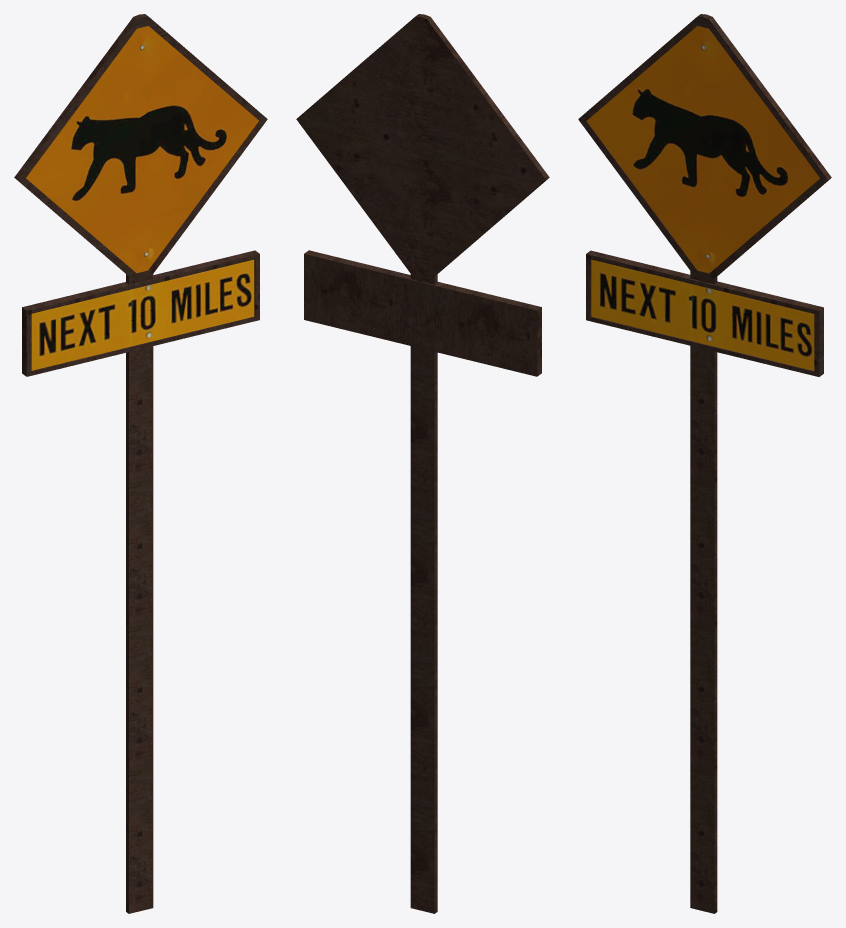
The model's file is fbxSignal.fbx.
The picture shows the model from 3 angles, left to right: view 1: azimuth 30°, elevation 25°; view 2: azimuth 150°, elevation 25°; view 3: azimuth 330°, elevation 25°; orthographic projection.
Visible parts, largest first — view 1: signal; view 2: signal; view 3: signal.
Part boxes in pixels (x1,y1,x2,y2): signal: [14, 14, 267, 913]; signal: [296, 14, 549, 913]; signal: [578, 14, 831, 913].
Size of the model in its own units: 2.64 by 9.01 by 0.0884.
2 materials, 2 textured.
